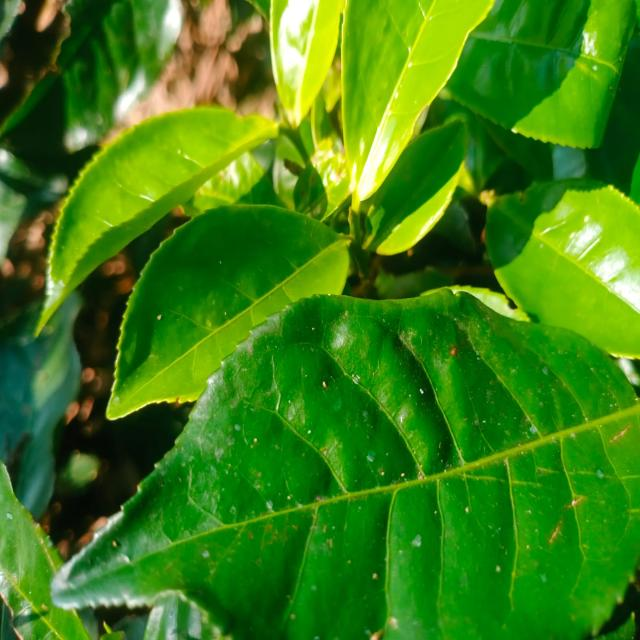Category D(7+ days, Not for Tea): (23, 259, 640, 640)
